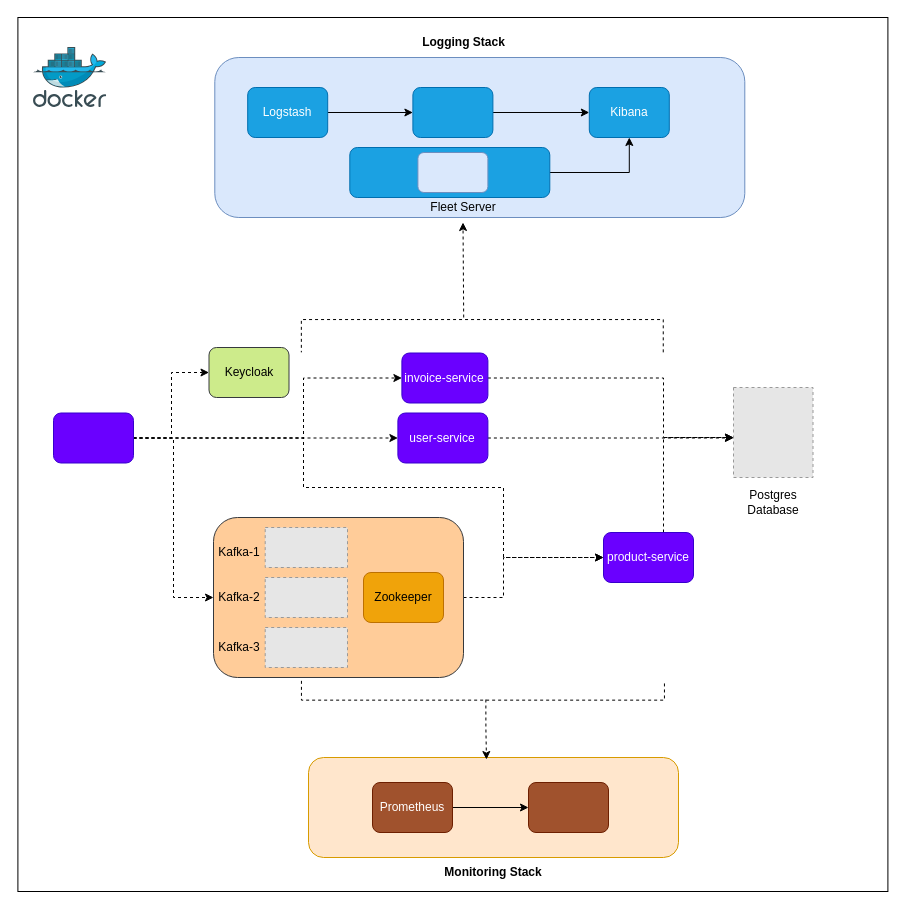
This 905x909 diagram has some shape labels left out. Grey dashed boxes stand in for pictures. The box of each missing label's shape, as (x1, y1, x2, y2) in pixels:
api-gateway: (52, 412, 134, 463)
APM: (417, 152, 488, 192)
Elasticsearch: (412, 86, 493, 138)
Grafana: (528, 782, 608, 832)
